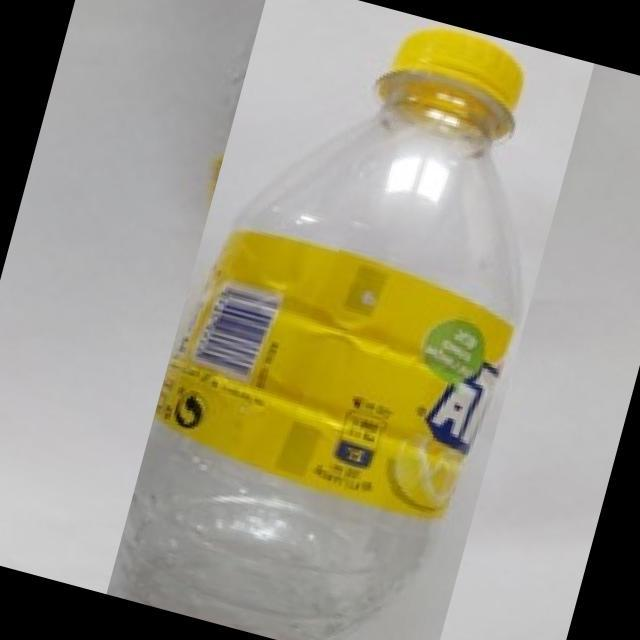good: (106, 0, 594, 640)
